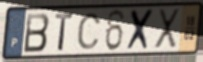6: (104, 8, 127, 53)
B: (22, 11, 51, 54)
C: (76, 12, 102, 52)
T: (54, 12, 75, 52)
X: (125, 8, 156, 53), (152, 8, 181, 52)
